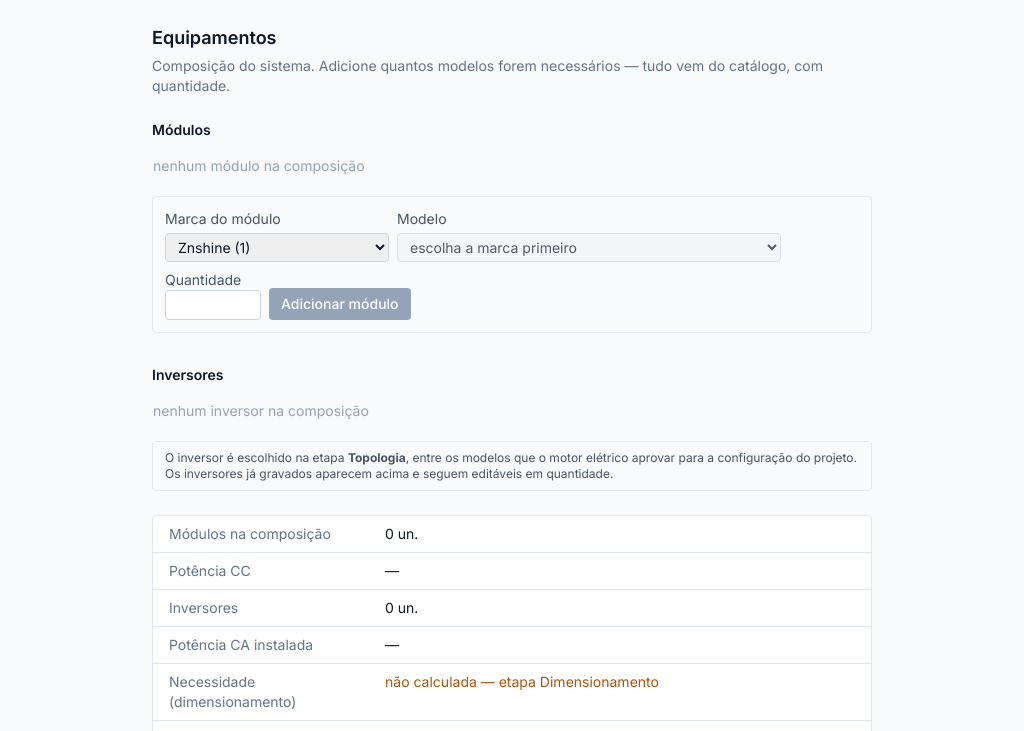
Test: FV-UX-029 · a tela compõe › 11 · adiciona DOIS modelos de módulo
The width and height of the screenshot is (1024, 731).
Select "Znshine (1)" in the dropdown labelled "Marca do módulo": [277, 248] box x1=165 y1=233 x2=389 y2=262
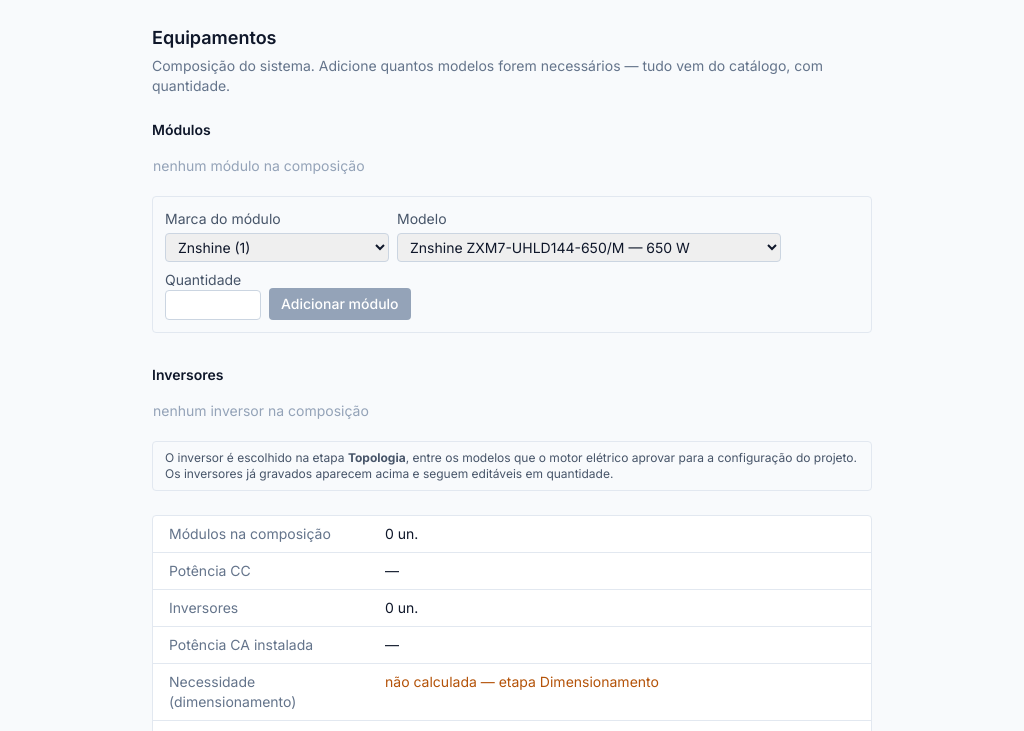
Select "Znshine ZXM7-UHLD144-650/M — 650 W" in the dropdown named "Módulo": [589, 248] box x1=397 y1=233 x2=781 y2=262
In the number field named "Quantidade do novo módulo": [213, 305] box x1=165 y1=290 x2=261 y2=320, type "20"
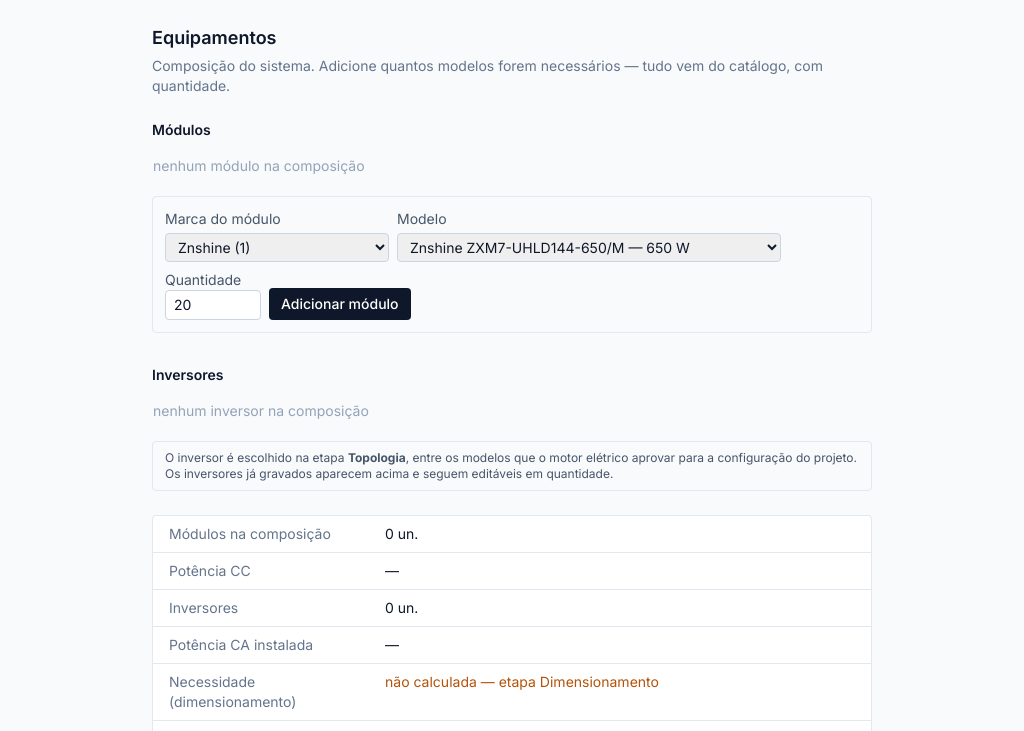
Click the button "Adicionar módulo": [340, 304] box x1=269 y1=288 x2=410 y2=320
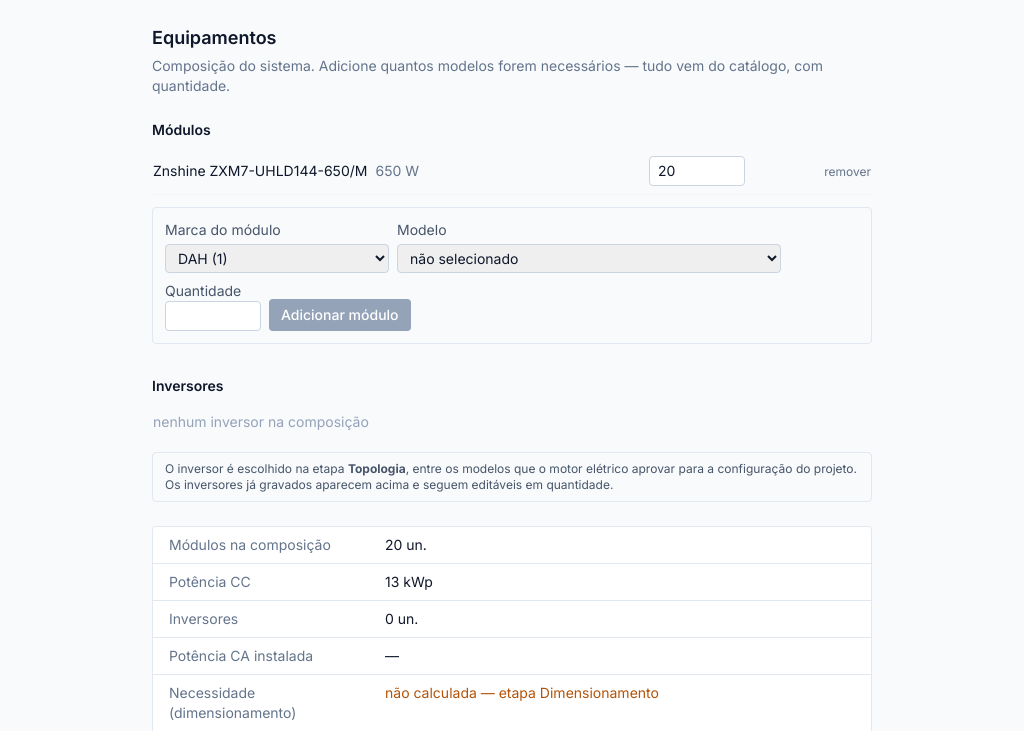
Select "DAH (1)" in the dropdown labelled "Marca do módulo": [277, 258] box x1=165 y1=244 x2=389 y2=273
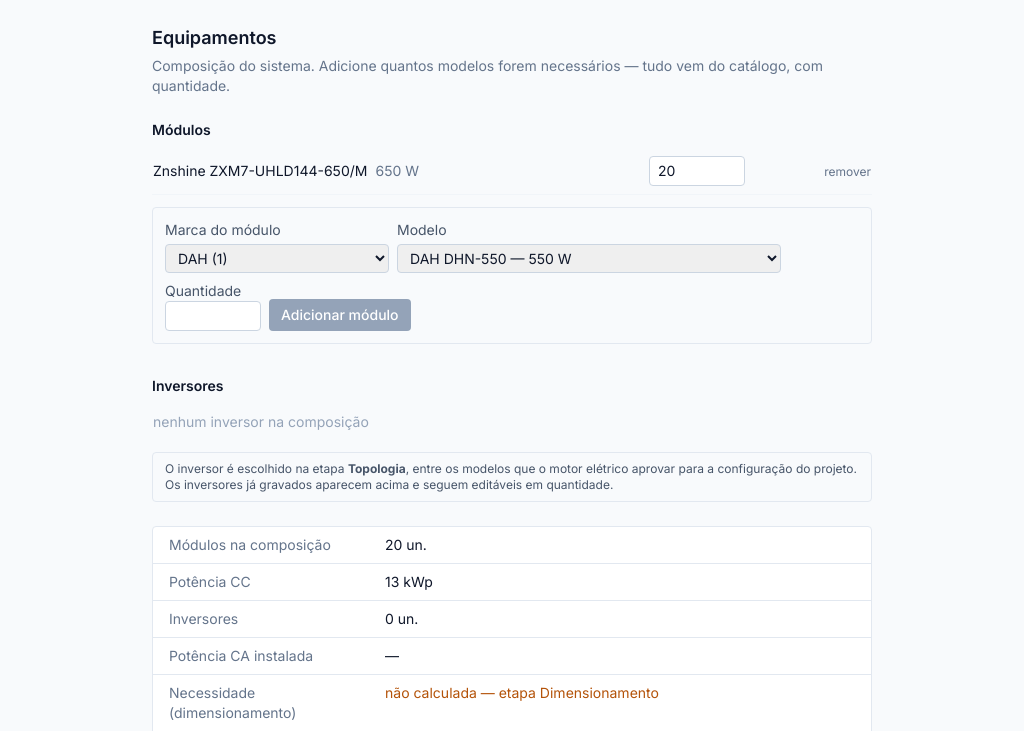
Select "DAH DHN-550 — 550 W" in the dropdown named "Módulo": [589, 258] box x1=397 y1=244 x2=781 y2=273
In the number field named "Quantidade do novo módulo": [213, 316] box x1=165 y1=301 x2=261 y2=331, type "4"
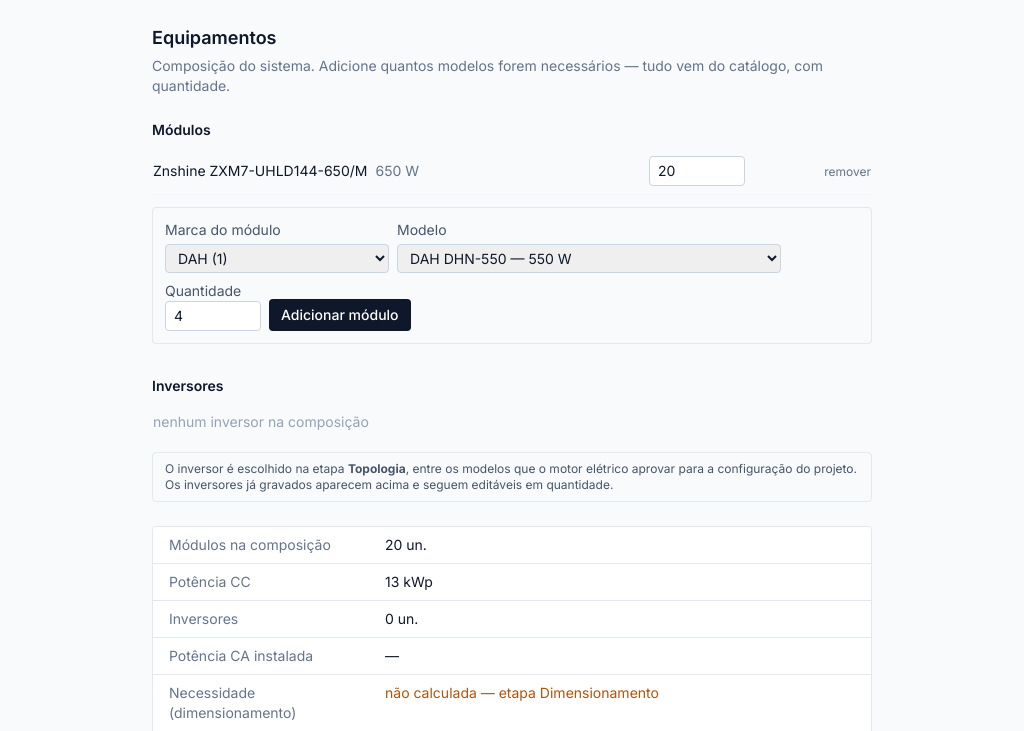
Click the button "Adicionar módulo": [340, 315] box x1=269 y1=299 x2=410 y2=331
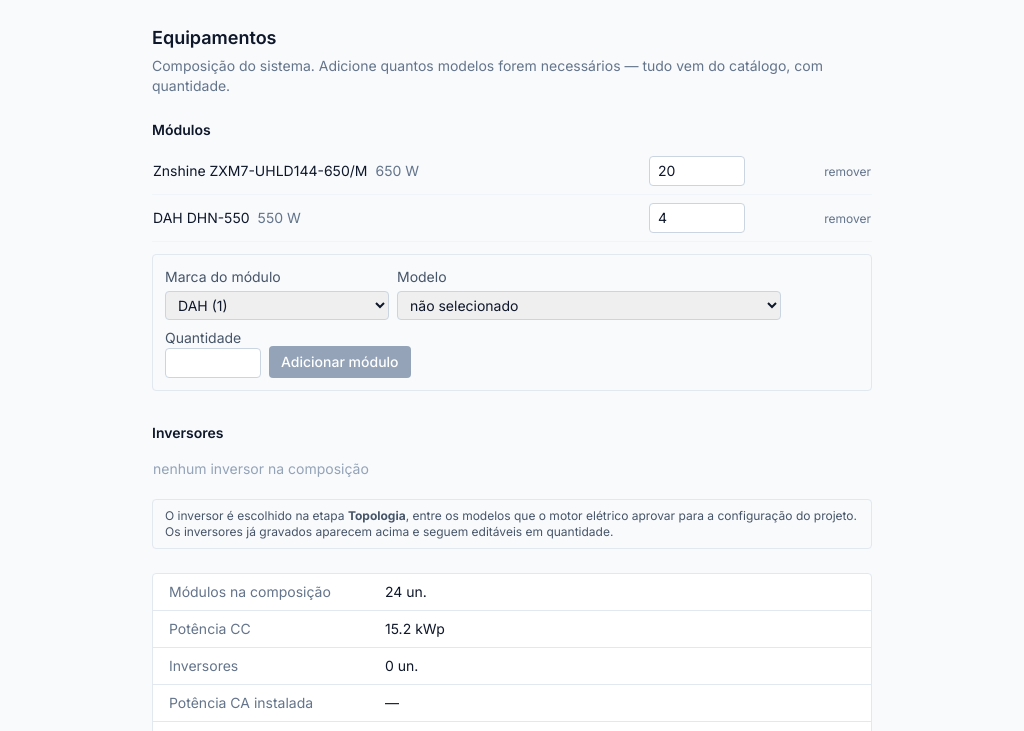
Now the number field named "Quantidade do módulo 1" holds "20", box x1=649 y1=156 x2=745 y2=186
Now the number field named "Quantidade do módulo 2" holds "4", box x1=649 y1=203 x2=745 y2=233
Now the text "15.2 kWp" is shown, box x1=385 y1=619 x2=445 y2=639
